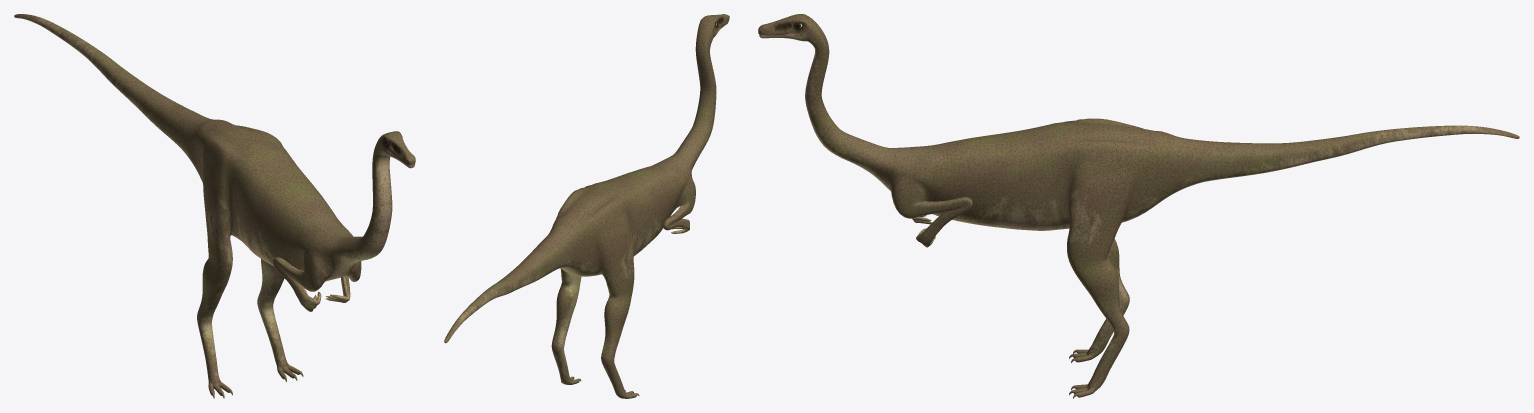
The model's file is gallimimus.glb.
3 views of the same model, side by side, from view 1: azimuth 30°, elevation 25°; view 2: azimuth 150°, elevation 25°; view 3: azimuth 270°, elevation 25° (orthographic). The views are drawn at different scales.
Parts seen in each view (by area): view 1: Object_7; view 2: Object_7; view 3: Object_7.
Part boxes in pixels (x1,y1,x2,y2): Object_7: (14, 14, 415, 398); Object_7: (444, 14, 729, 398); Object_7: (758, 14, 1519, 398).
Bounding box in the file's own units: 4.78 × 17.88 × 34.11.
Materials: 2 (2 with a texture image).
